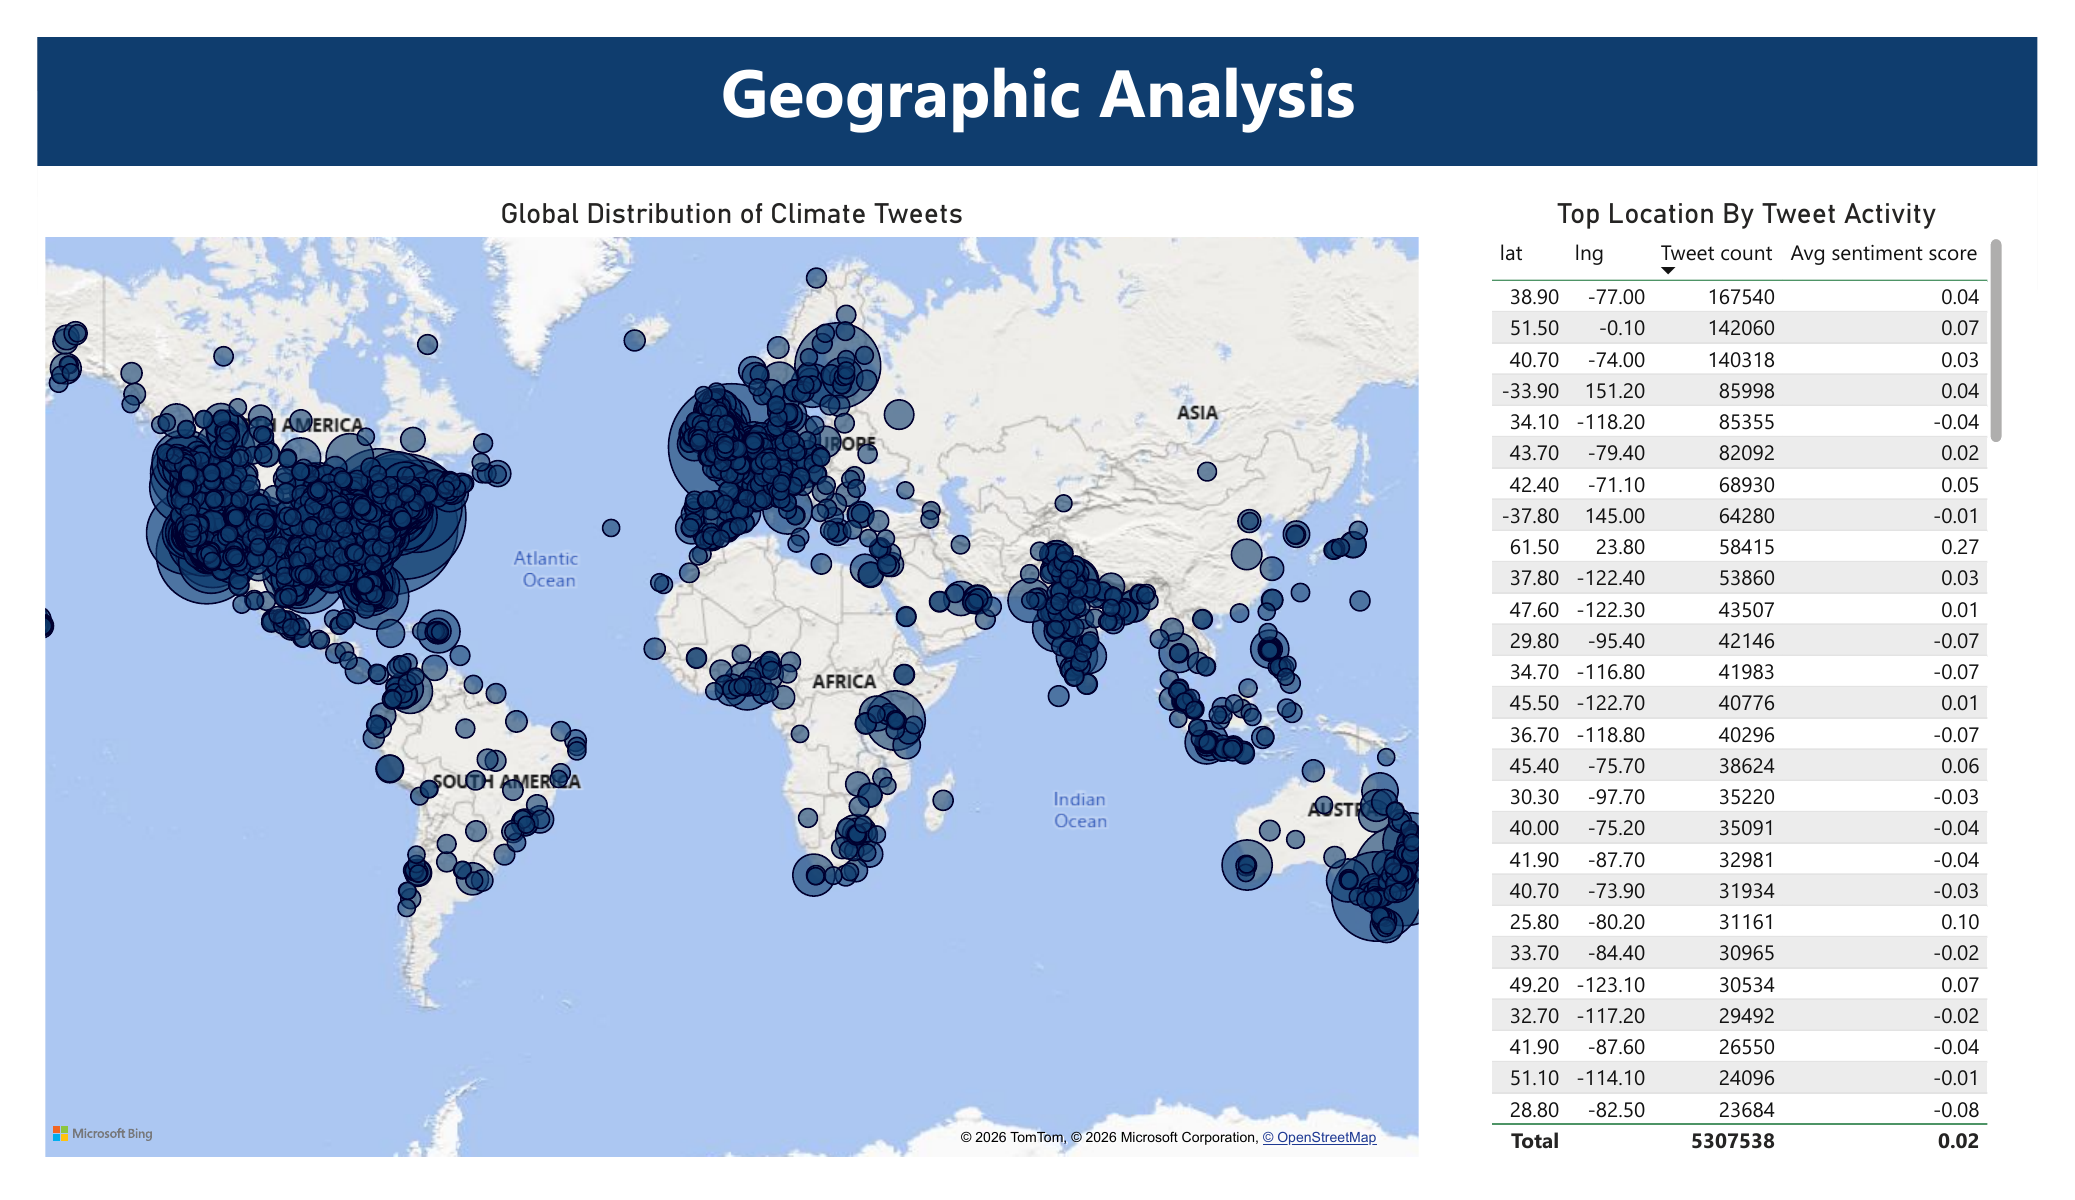

What the dashboard file says about the page in this screenshot:
{"tool":"tableau","page":{"name":"Page 3","canvas":[1220,700],"ordinal":4},"visuals":[{"type":"text","box":[40.7,7,1154.7,41]},{"type":"worksheet","title":"Sheet 5 (3)","mark":"Text","box":[41.9,47,406.7,52]},{"type":"worksheet","title":"Sheet 5 (2)","mark":"Text","box":[414.1,47,391.9,50]},{"type":"worksheet","title":"Sheet 5 (4)","mark":"Text","box":[808.4,47,404.2,51]},{"type":"worksheet","title":"Sheet 15","mark":"Automatic","rows":["country"],"cols":["Calculation_1402216471646209"],"box":[40,102,1033,269]},{"type":"filter","title":"Sheet 16","param":"[federated.0t04x5t1wbccgz1bu4hci1i13do6].[yr:orderDate:ok]","box":[1085,135,126,51]},{"type":"filter","title":"Sheet 17 (2)","param":"[federated.0t04x5t1wbccgz1bu4hci1i13do6].[none:companyName (shippers):nk]","box":[1088,189,123,54]},{"type":"worksheet","title":"Sheet 17","mark":"Automatic","rows":["employeeName"],"cols":["Calculation_1402216471646209"],"box":[718.4,368,488,278]},{"type":"worksheet","title":"Sheet 16","mark":"Circle","rows":["freight"],"cols":["Calculation_1402216471646209"],"box":[37,369,473.2,284]},{"type":"worksheet","title":"Sheet 17 (2)","mark":"Pie","box":[530,371,167,203]},{"type":"legend","title":"Sheet 17 (2)","param":"[federated.0t04x5t1wbccgz1bu4hci1i13do6].[none:companyName (shippers):nk]","box":[563,568,133,77]}]}

Visuals, with their boxes in screenshot pixels (x1, y1, x2, y2), scaled from the page's 1220x700 canvas onto the 2075x1200 screenshot:
text: (x1=69, y1=12, x2=2033, y2=82)
"Sheet 5 (3)" worksheet (Text marks): (x1=71, y1=81, x2=763, y2=170)
"Sheet 5 (2)" worksheet (Text marks): (x1=704, y1=81, x2=1371, y2=166)
"Sheet 5 (4)" worksheet (Text marks): (x1=1375, y1=81, x2=2062, y2=168)
"Sheet 15" worksheet: (x1=68, y1=175, x2=1825, y2=636)
"Sheet 16" filter: (x1=1845, y1=231, x2=2060, y2=319)
"Sheet 17 (2)" filter: (x1=1850, y1=324, x2=2060, y2=417)
"Sheet 17" worksheet: (x1=1222, y1=631, x2=2052, y2=1107)
"Sheet 16" worksheet (Circle marks): (x1=63, y1=633, x2=868, y2=1119)
"Sheet 17 (2)" worksheet (Pie marks): (x1=901, y1=636, x2=1185, y2=984)
"Sheet 17 (2)" legend: (x1=958, y1=974, x2=1184, y2=1106)
